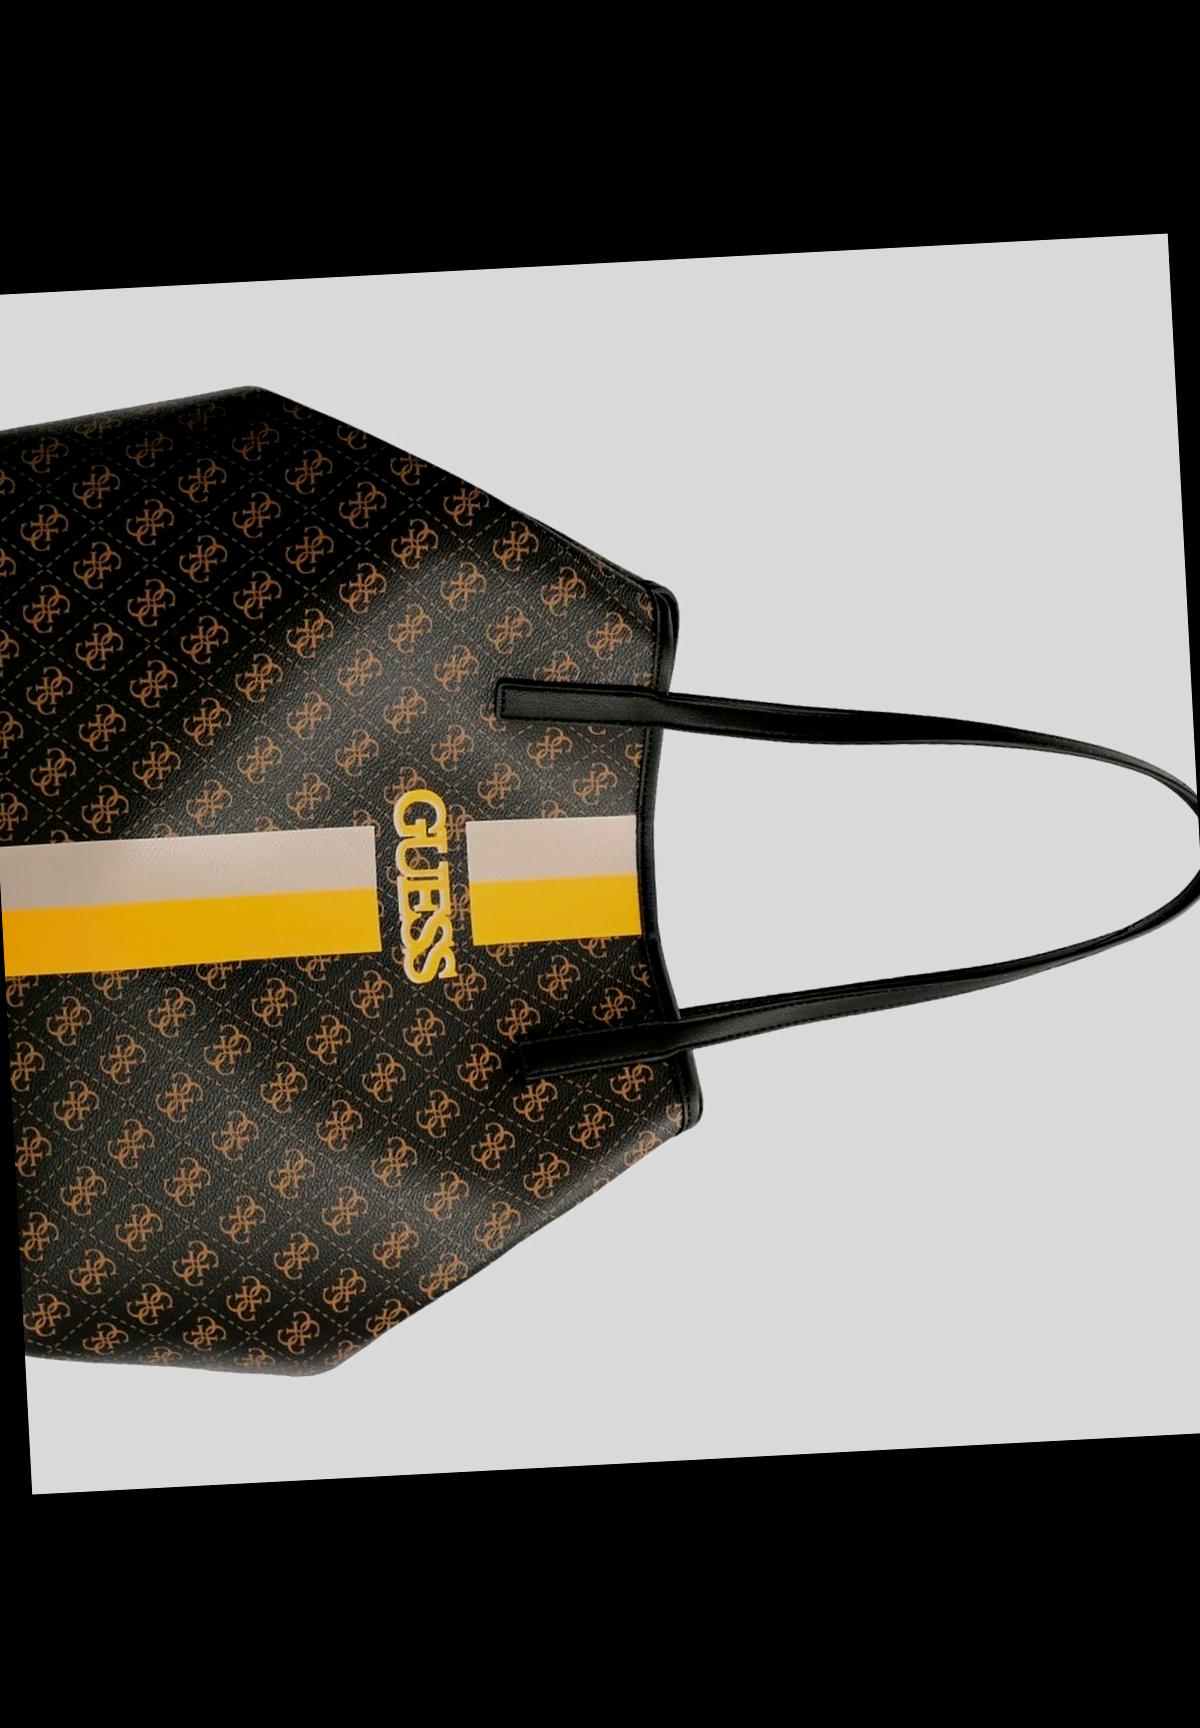GUESS: (393, 788, 456, 985)
